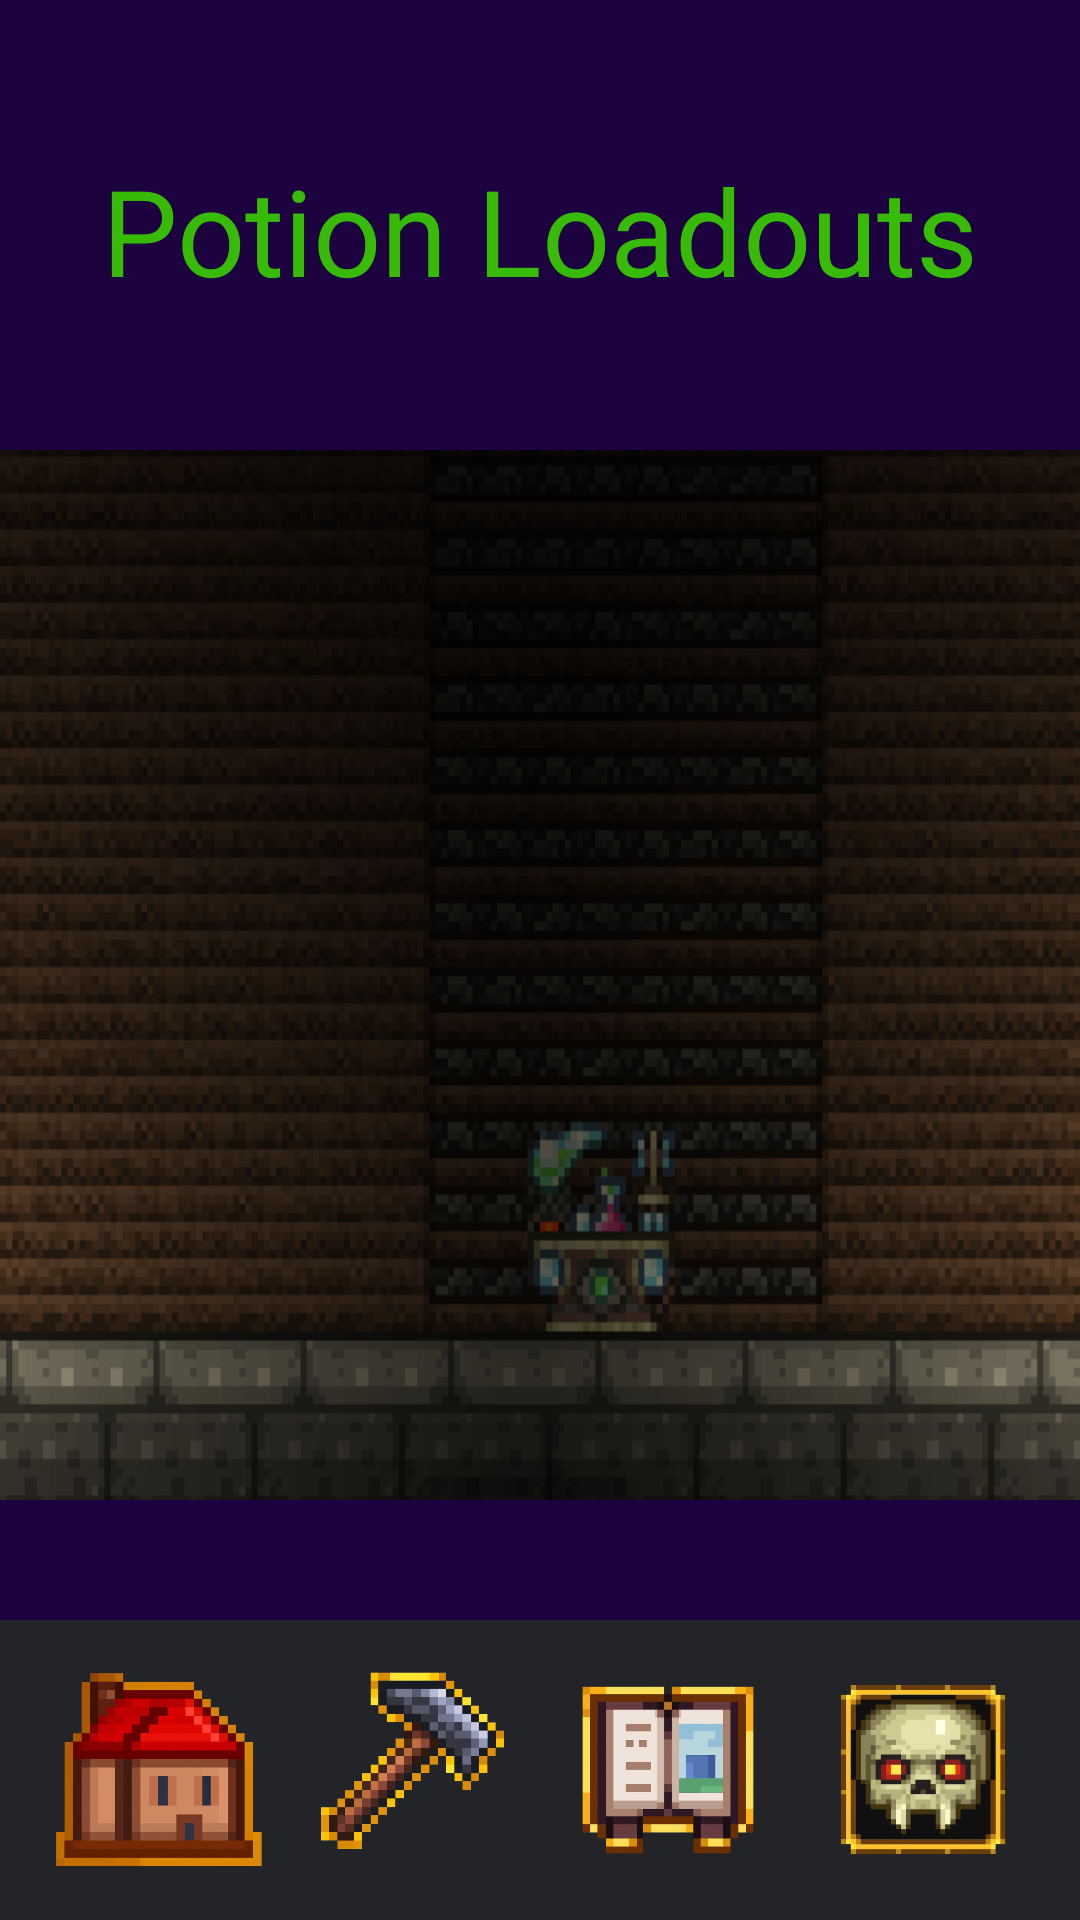

Point at icon controls on the screen. Image size 1080×1920, points as [x,y].
Boss Checklist: [923,1769]
Home: [159,1769]
